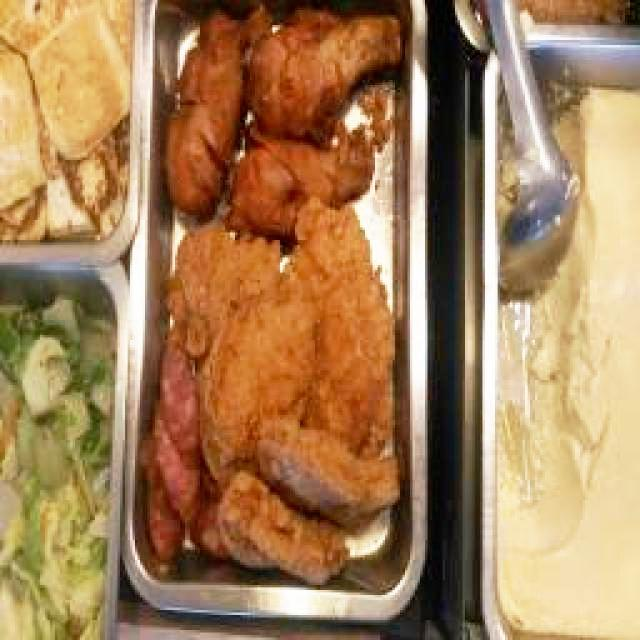chinese_cabbage: (0, 285, 108, 640)
chinese_sausage: (146, 318, 202, 563)
fried_chicken: (173, 203, 400, 580), (167, 13, 269, 218), (249, 11, 401, 136), (235, 128, 377, 236)
